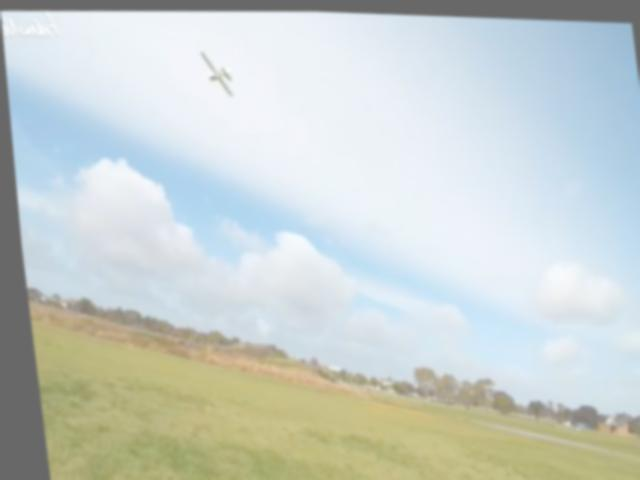uav: (195, 39, 240, 101)
